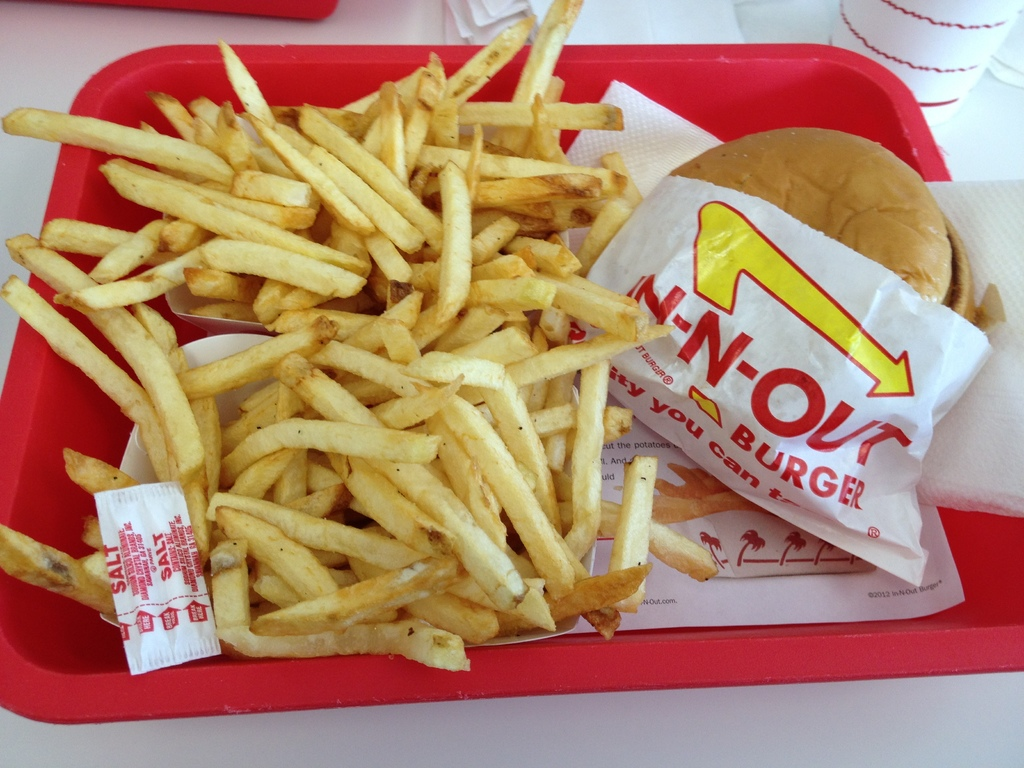French fries: (0, 0, 698, 666)
